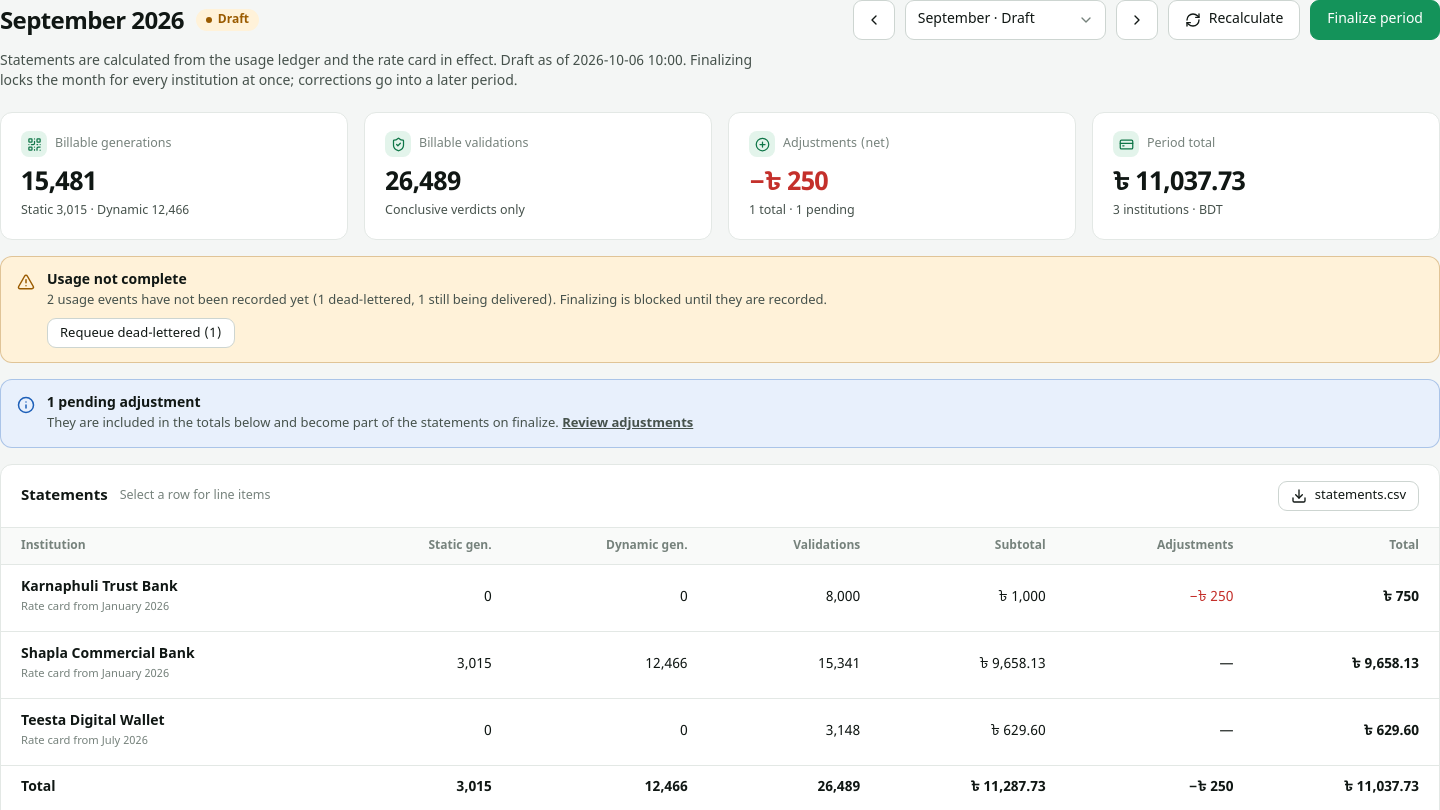
billing periods page › opens the line items behind a row
The image size is (1440, 810).
Click the button "Shapla Commercial Bank Rate card from January 2026" at [108, 665], box [21,645,195,685]
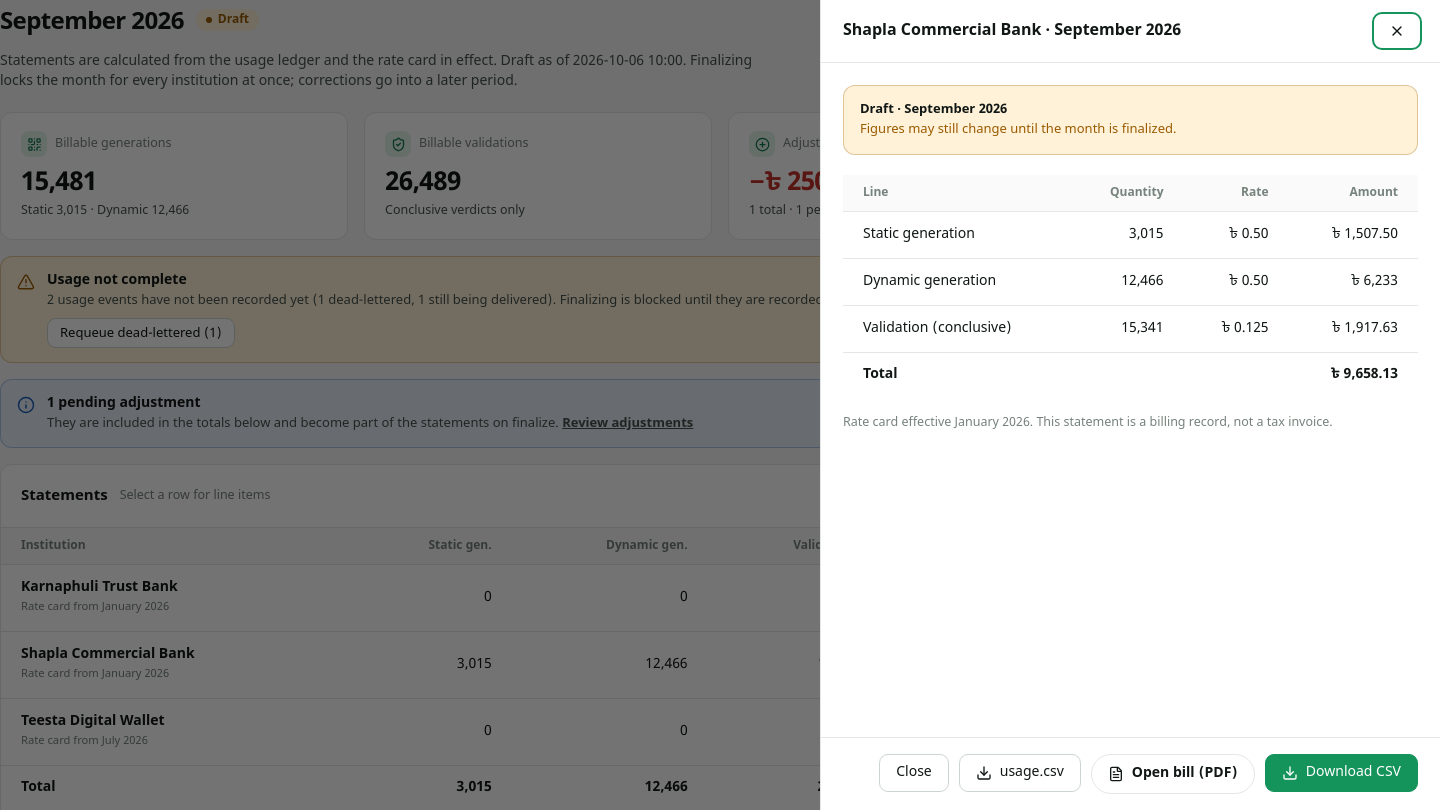
expect the heading "Shapla Commercial Bank · September 2026" is shown: met, box [843,19,1181,43]
expect the text "Static generation" is shown: met, box [843,212,1071,258]
expect the text "Draft · September 2026" is shown: met, box [860,101,1007,118]
